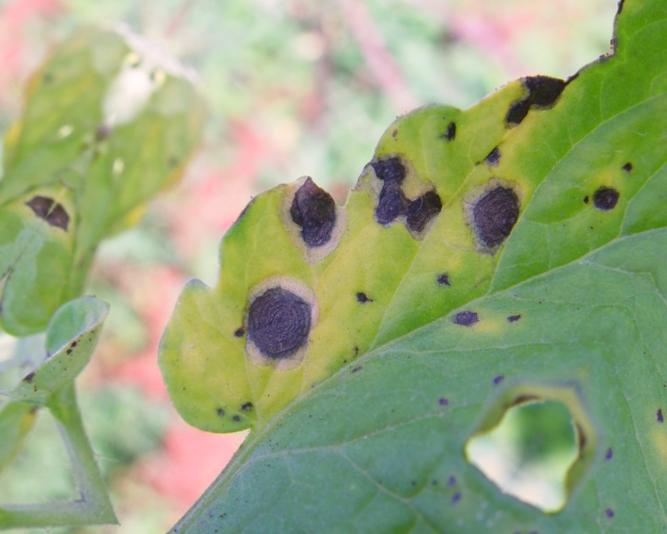Tomato Early blight leaf: (52, 0, 667, 534), (0, 182, 128, 350)
